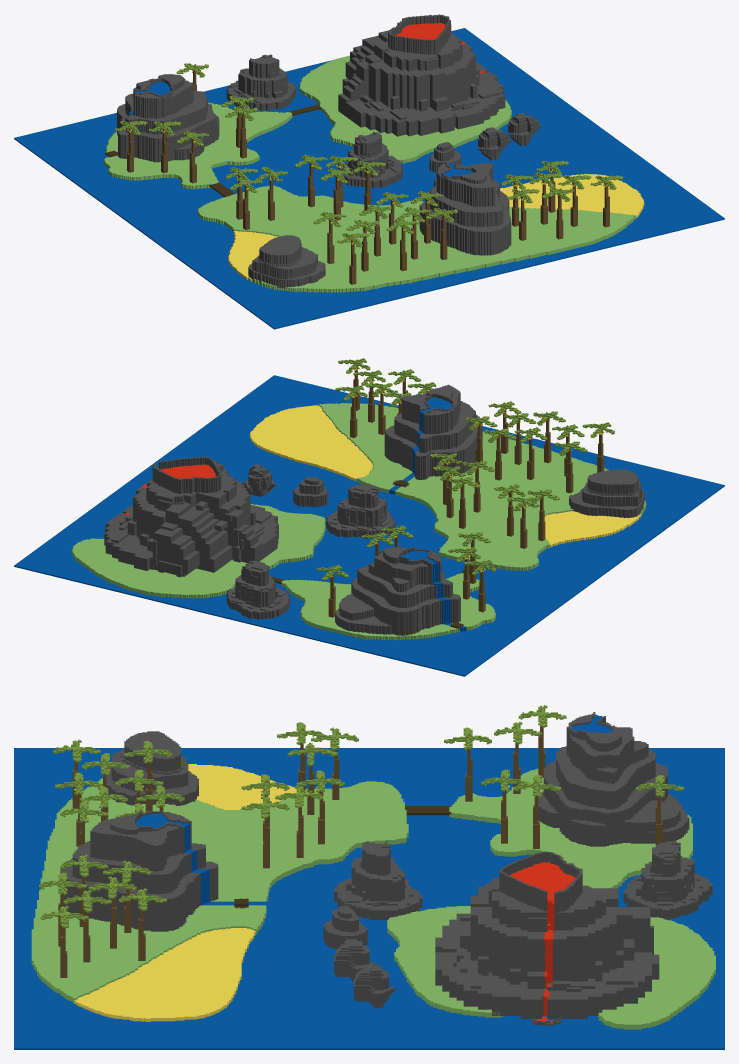
Rendered from world.glb.
The picture shows the model from 3 angles, top to bottom: view 1: azimuth 30°, elevation 25°; view 2: azimuth 150°, elevation 25°; view 3: azimuth 270°, elevation 25°; orthographic projection. The views are drawn at different scales.
Parts seen in each view (by area): view 1: Untitled.004, Untitled.055, Untitled.042, Untitled.006, Untitled.020, Untitled.045, Untitled.044, Untitled.046, Untitled.051, Untitled.057, Untitled.048, Untitled.053 (+27 smaller); view 2: Untitled.006, Untitled.001, Untitled.045, Untitled.042, Untitled.020, Untitled.055, Untitled.048, Untitled.053, Untitled.047, Untitled.049, Untitled.051, Untitled.044 (+22 smaller); view 3: Untitled.042, Untitled.006, Untitled.051, Untitled.020, Untitled.003, Untitled, Untitled.055, Untitled.053, Untitled.047, Untitled.045, Untitled.049, Untitled.057 (+38 smaller).
Part boxes in pixels (x1,y1,x2,y2): Untitled.004: [346, 34, 455, 136]; Untitled.055: [79, 157, 256, 233]; Untitled.042: [555, 171, 724, 246]; Untitled.006: [117, 74, 219, 162]; Untitled.020: [419, 161, 511, 255]; Untitled.045: [144, 202, 321, 281]; Untitled.044: [209, 249, 386, 329]; Untitled.046: [322, 226, 499, 301]; Untitled.051: [495, 123, 659, 193]; Untitled.057: [196, 130, 346, 201]; Untitled.048: [14, 113, 158, 186]; Untitled.053: [257, 184, 419, 249]; Untitled.006: [335, 547, 460, 635]; Untitled.001: [152, 476, 262, 577]; Untitled.045: [482, 501, 659, 580]; Untitled.042: [209, 375, 386, 447]; Untitled.020: [384, 384, 482, 479]; Untitled.055: [446, 549, 594, 628]; Untitled.048: [352, 607, 529, 676]; Untitled.053: [388, 476, 546, 549]; Untitled.047: [257, 448, 430, 515]; Untitled.049: [14, 518, 152, 594]; Untitled.051: [144, 423, 321, 497]; Untitled.044: [547, 457, 724, 533]; Untitled.042: [14, 968, 191, 1049]; Untitled.006: [538, 712, 689, 846]; Untitled.051: [191, 970, 369, 1049]; Untitled.020: [60, 811, 218, 931]; Untitled.003: [435, 870, 547, 1018]; Untitled: [547, 870, 659, 1018]; Untitled.055: [369, 748, 547, 822]; Untitled.053: [191, 818, 369, 897]; Untitled.047: [191, 893, 369, 973]; Untitled.045: [191, 748, 369, 817]; Untitled.049: [547, 968, 724, 1049]; Untitled.057: [369, 818, 547, 897].
Size of the model in its own units: 40 by 6.5 by 40.
58 materials, 58 textured.
